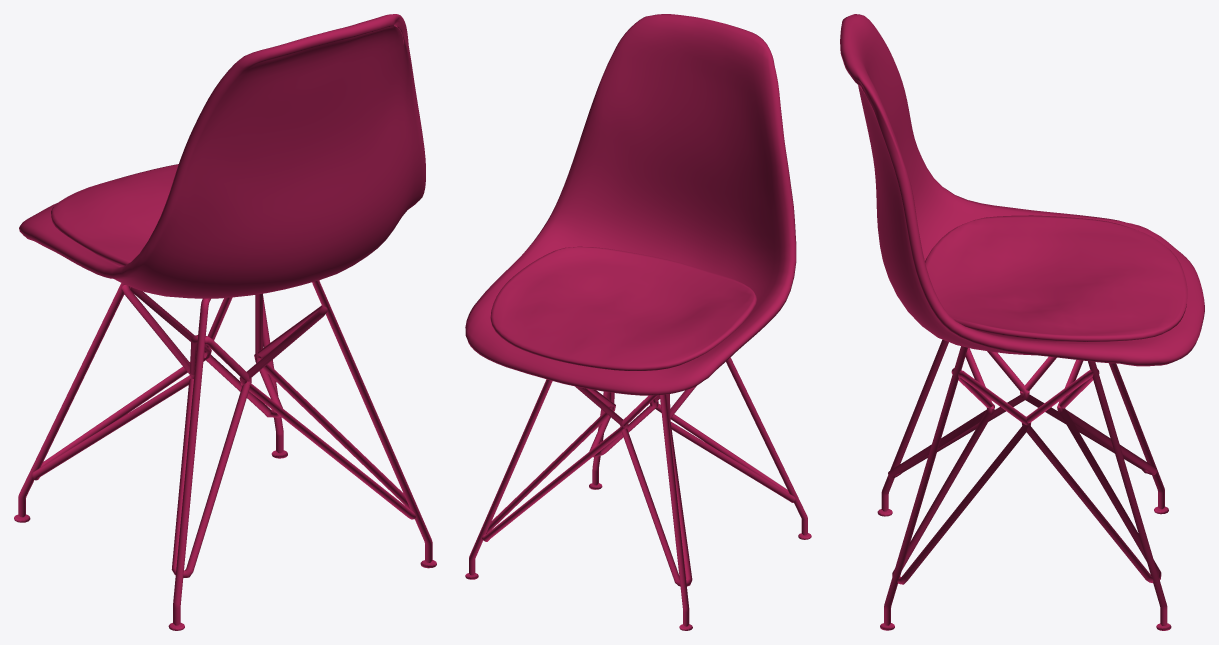
File: SillaMesaRedondav4.fbx
3 renders of one model, left to right at view 1: azimuth 30°, elevation 25°; view 2: azimuth 150°, elevation 25°; view 3: azimuth 270°, elevation 25°, orthographic. The views are drawn at different scales.
Visible parts, largest first — view 1: Box021, PatasSilla, Cojin; view 2: Box021, Cojin, PatasSilla; view 3: Cojin, Box021, PatasSilla.
Boxes of the visible parts, left/top/right/bottom form: Box021: left=19, top=14, right=425, bottom=298; PatasSilla: left=14, top=280, right=436, bottom=630; Cojin: left=51, top=164, right=178, bottom=266; Box021: left=465, top=14, right=796, bottom=395; Cojin: left=490, top=246, right=757, bottom=370; PatasSilla: left=465, top=357, right=811, bottom=630; Cojin: left=925, top=215, right=1187, bottom=341; Box021: left=840, top=14, right=1204, bottom=366; PatasSilla: left=877, top=339, right=1171, bottom=630.
Bounding box in the file's own units: 45.13 × 82.13 × 50.67.
